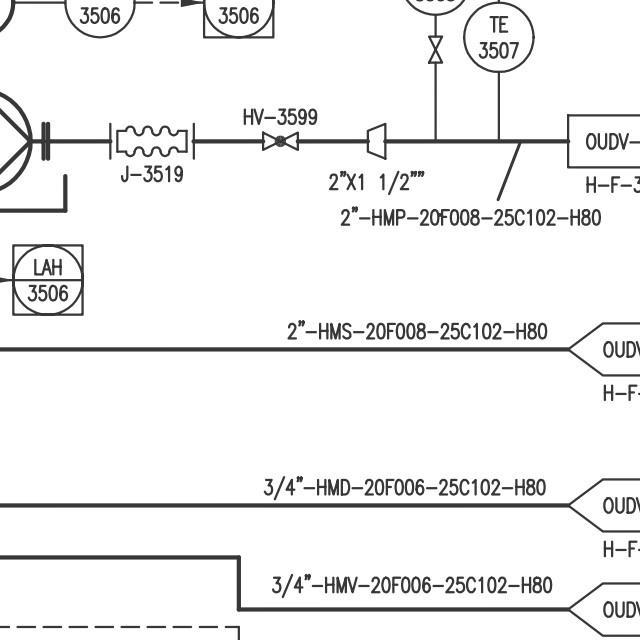BV2: (257, 129, 303, 154)
EJ: (105, 122, 202, 162)
GV: (425, 29, 447, 69)
SP: (359, 120, 393, 161)
